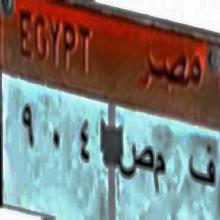0: (50, 126, 61, 158)
4: (79, 116, 91, 172)
9: (21, 98, 35, 152)
faa: (187, 138, 217, 194)
meem: (154, 147, 168, 201)
saad: (119, 138, 153, 186)
